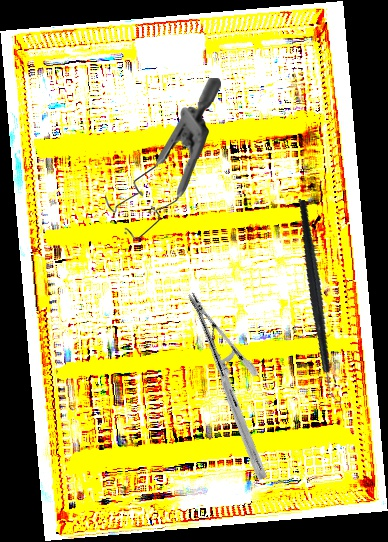Chopper: (257, 198, 385, 406)
Needle Holder: (126, 289, 328, 483)
Speculum: (104, 76, 221, 242)
